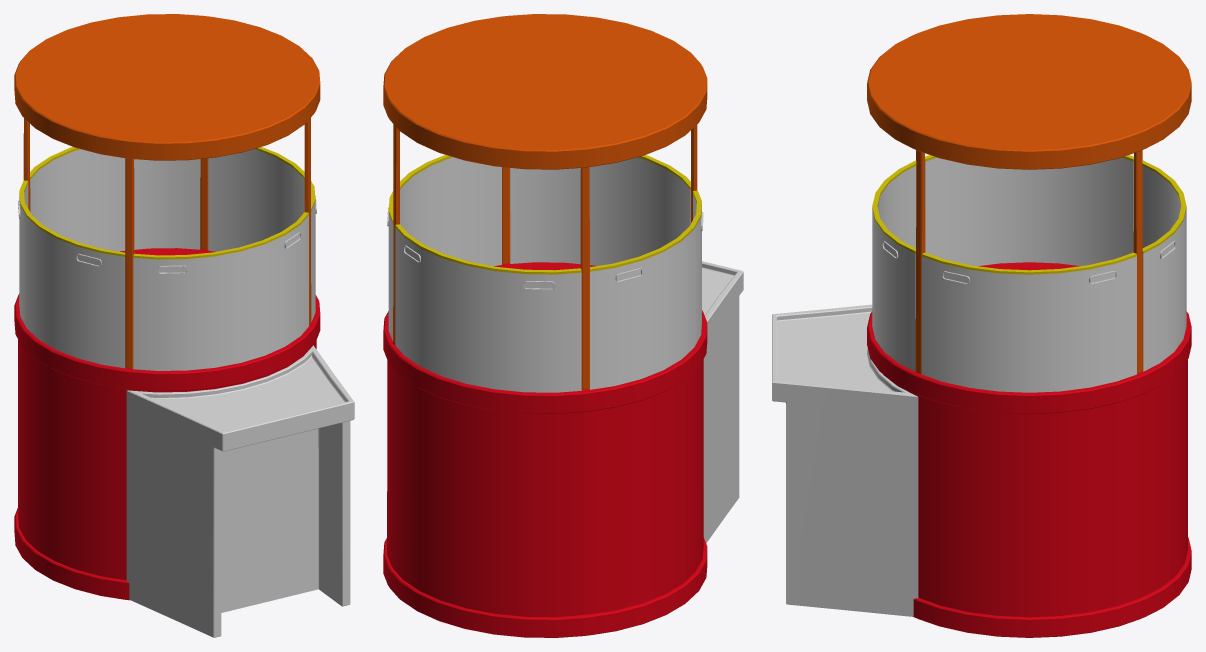
File: Casing.fbx
3 renders of one model, left to right at view 1: azimuth 30°, elevation 25°; view 2: azimuth 150°, elevation 25°; view 3: azimuth 270°, elevation 25°, orthographic. The views are drawn at different scales.
Parts seen in each view (by area): view 1: Cylinder, Cylinder.003, Cylinder.001, Cylinder.010, Cylinder.008, Cylinder.009; view 2: Cylinder, Cylinder.010, Cylinder.001, Cylinder.008, Cylinder.009, Cylinder.003; view 3: Cylinder, Cylinder.003, Cylinder.009, Cylinder.008, Cylinder.010, Cylinder.001.
Part boxes in pixels (x1,y1,x2,y2): Cylinder: [14, 14, 320, 600]; Cylinder.003: [126, 345, 354, 637]; Cylinder.001: [133, 212, 308, 370]; Cylinder.010: [30, 147, 200, 251]; Cylinder.008: [19, 180, 125, 368]; Cylinder.009: [208, 147, 315, 321]; Cylinder: [383, 14, 707, 637]; Cylinder.010: [395, 224, 581, 392]; Cylinder.001: [510, 155, 690, 265]; Cylinder.008: [590, 190, 701, 389]; Cylinder.009: [388, 155, 501, 340]; Cylinder.003: [702, 261, 743, 543]; Cylinder: [867, 14, 1191, 637]; Cylinder.003: [772, 304, 918, 616]; Cylinder.009: [921, 252, 1136, 392]; Cylinder.008: [925, 155, 1133, 266]; Cylinder.010: [1142, 160, 1186, 371]; Cylinder.001: [872, 160, 916, 371].
Bounding box in the file's own units: 140 × 232 × 181.
